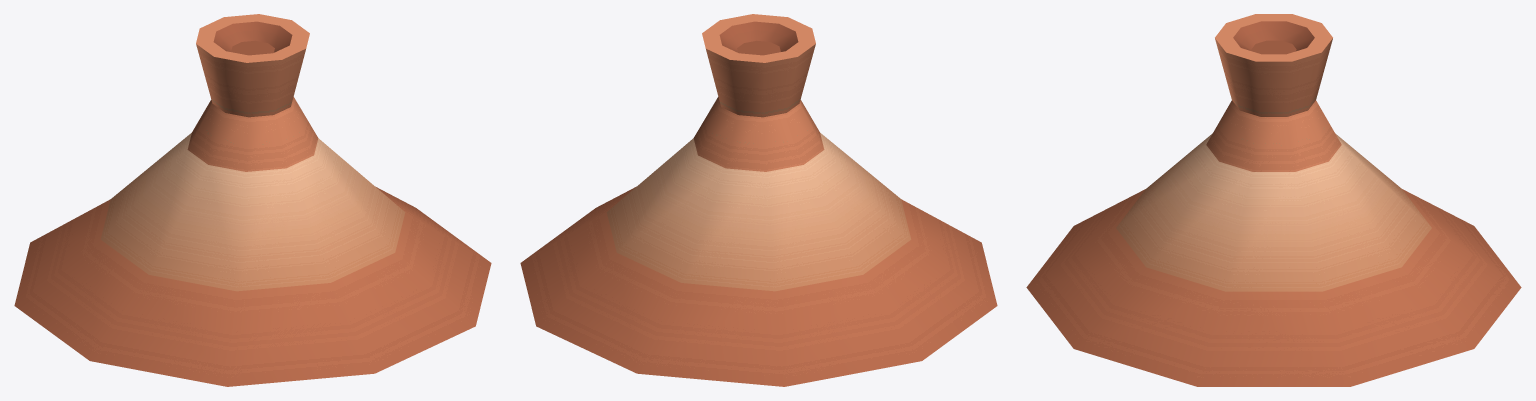
Rendered from tajine-lid.glb.
3 views of the same model, side by side, from view 1: azimuth 30°, elevation 25°; view 2: azimuth 150°, elevation 25°; view 3: azimuth 270°, elevation 25° (orthographic).
Parts seen in each view (by area): view 1: tajine-lid; view 2: tajine-lid; view 3: tajine-lid.
Boxes of the visible parts, <box> form: tajine-lid: <box>14,14,491,386</box>; tajine-lid: <box>520,14,997,386</box>; tajine-lid: <box>1026,14,1521,386</box>.
Bounding box in the file's own units: 0.7555 × 0.442 × 0.7943.
1 material, 1 textured.
